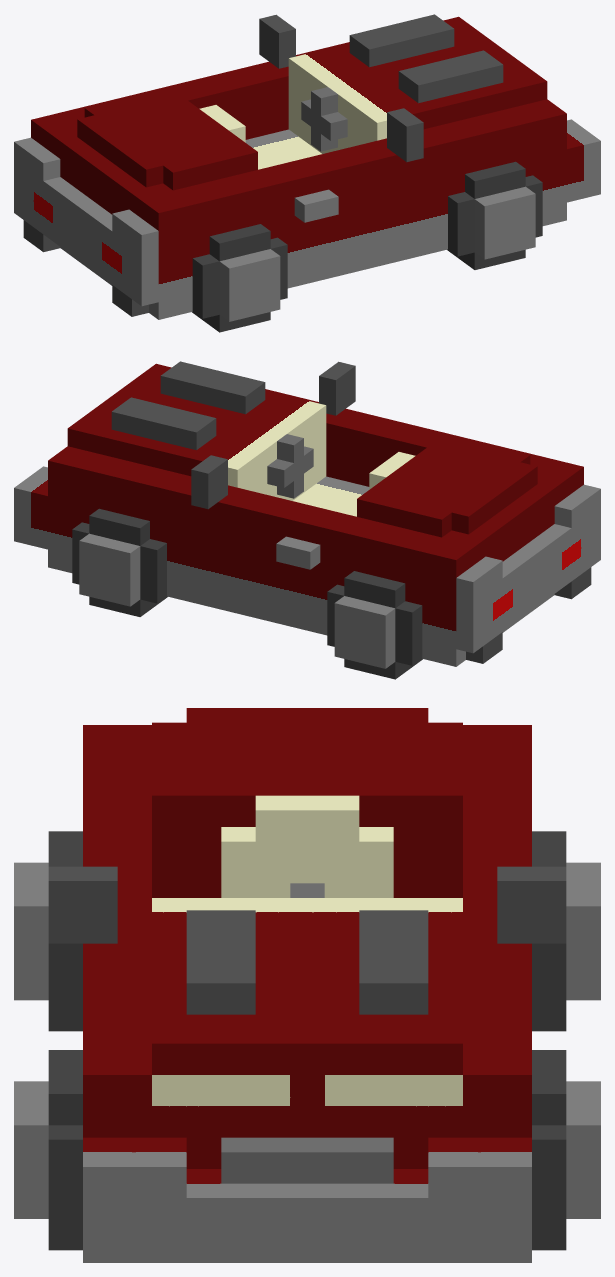
The model's file is veh_car2b.dae.
The picture shows the model from 3 angles, top to bottom: view 1: azimuth 30°, elevation 25°; view 2: azimuth 150°, elevation 25°; view 3: azimuth 270°, elevation 25°; orthographic projection. The views are drawn at different scales.
Visible parts, largest first — view 1: veh_car2b; view 2: veh_car2b; view 3: veh_car2b.
Part boxes in pixels (<box>): veh_car2b: <box>14,14,600,332</box>; veh_car2b: <box>14,361,600,679</box>; veh_car2b: <box>14,708,600,1262</box>.
Bounding box in the file's own units: 2.7 × 1.7 × 0.9.
Materials: 1 (1 with a texture image).
